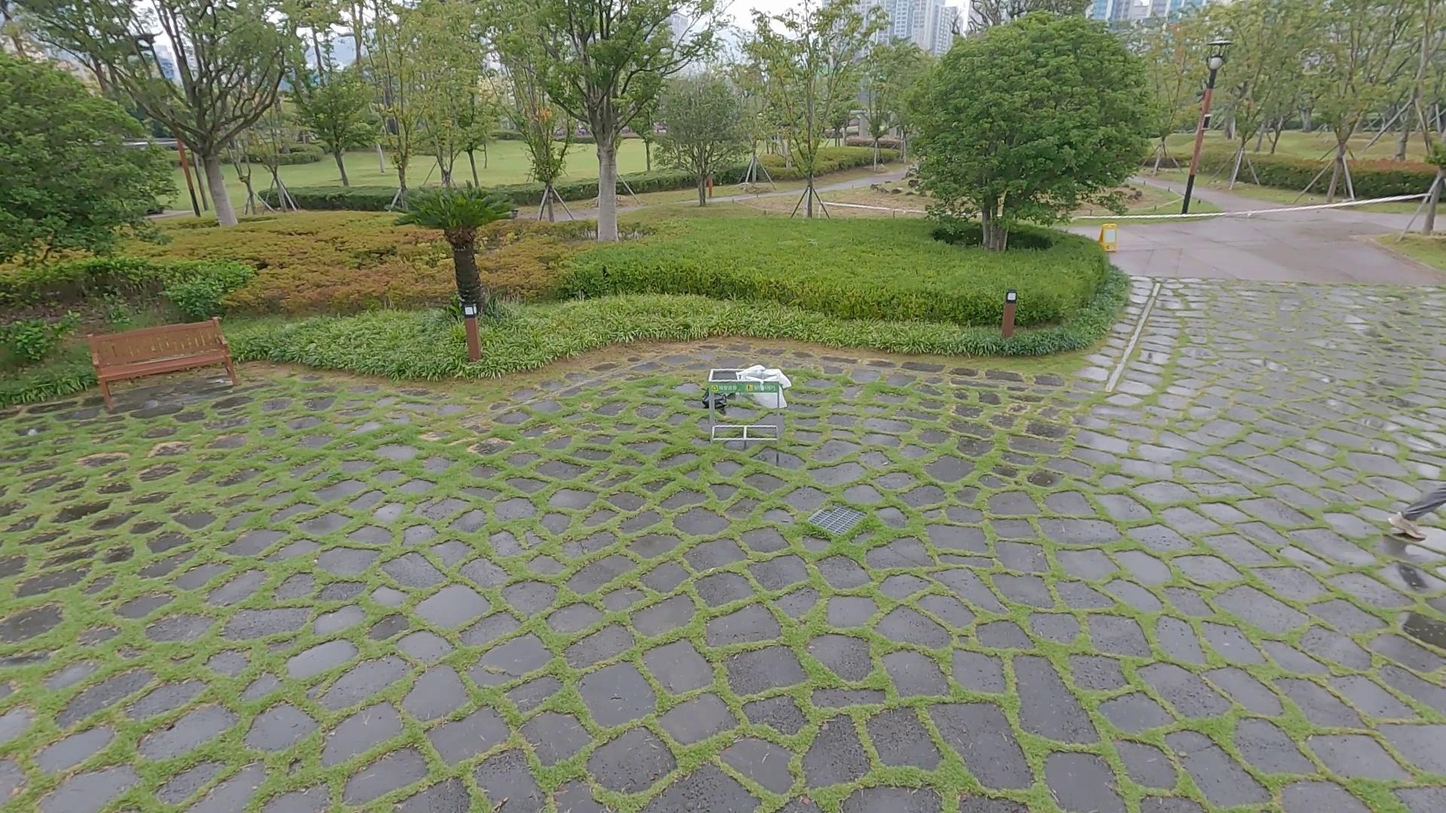trash: (698, 383, 732, 418)
